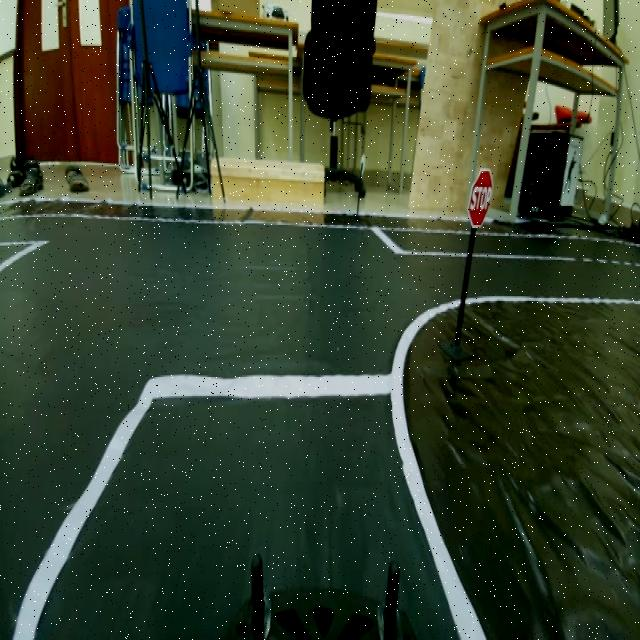stop: (461, 161, 497, 233)
